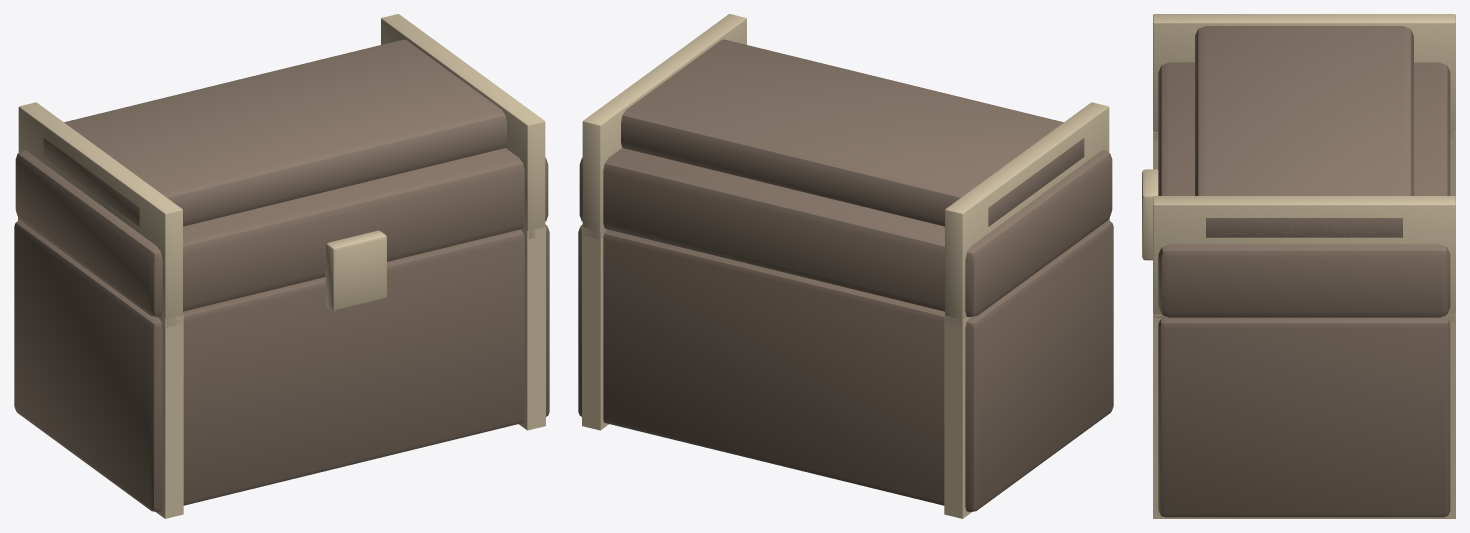
The model's file is dk_chest.gltf.
The picture shows the model from 3 angles, left to right: view 1: azimuth 30°, elevation 25°; view 2: azimuth 150°, elevation 25°; view 3: azimuth 270°, elevation 25°; orthographic projection. The views are drawn at different scales.
Visible parts, largest first — view 1: Lid, Body; view 2: Body, Lid; view 3: Lid, Body.
Boxes of the visible parts, x1,y1,x2,y2 form: Lid: (15,14,548,327); Body: (14,217,549,518); Body: (578,217,1113,518); Lid: (579,14,1112,327); Lid: (1142,14,1455,322); Body: (1153,131,1455,518).
Size of the model in its own units: 1.3 by 0.95 by 0.86.
